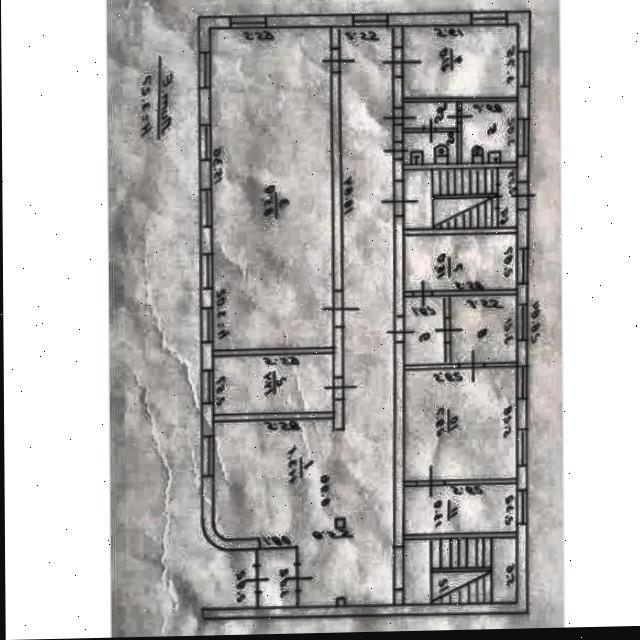room: (211, 27, 393, 607), (209, 24, 332, 350), (404, 368, 515, 480), (402, 25, 517, 98), (402, 537, 516, 605), (212, 354, 333, 414), (402, 168, 517, 230), (401, 233, 518, 292), (402, 484, 516, 535), (449, 294, 517, 364), (460, 101, 516, 164), (403, 296, 444, 364), (256, 549, 295, 607), (402, 132, 457, 165), (402, 102, 457, 129)
